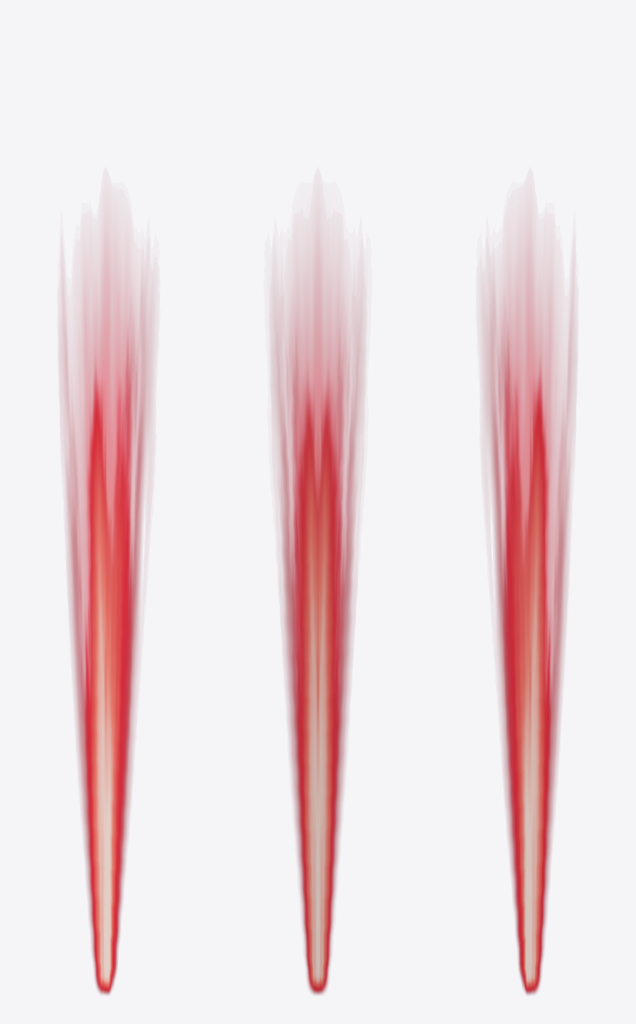
File: trail_flame_crimson.glb
3 renders of one model, left to right at view 1: azimuth 30°, elevation 25°; view 2: azimuth 150°, elevation 25°; view 3: azimuth 270°, elevation 25°, orthographic.
Parts seen in each view (by area): view 1: flame; view 2: flame; view 3: flame.
Boxes of the visible parts, left/top/right/bottom form: flame: left=61, top=224, right=152, bottom=994; flame: left=272, top=224, right=363, bottom=994; flame: left=483, top=224, right=574, bottom=994.
Bounding box in the file's own units: 11.8 × 58 × 10.22.
1 material, 1 textured.
